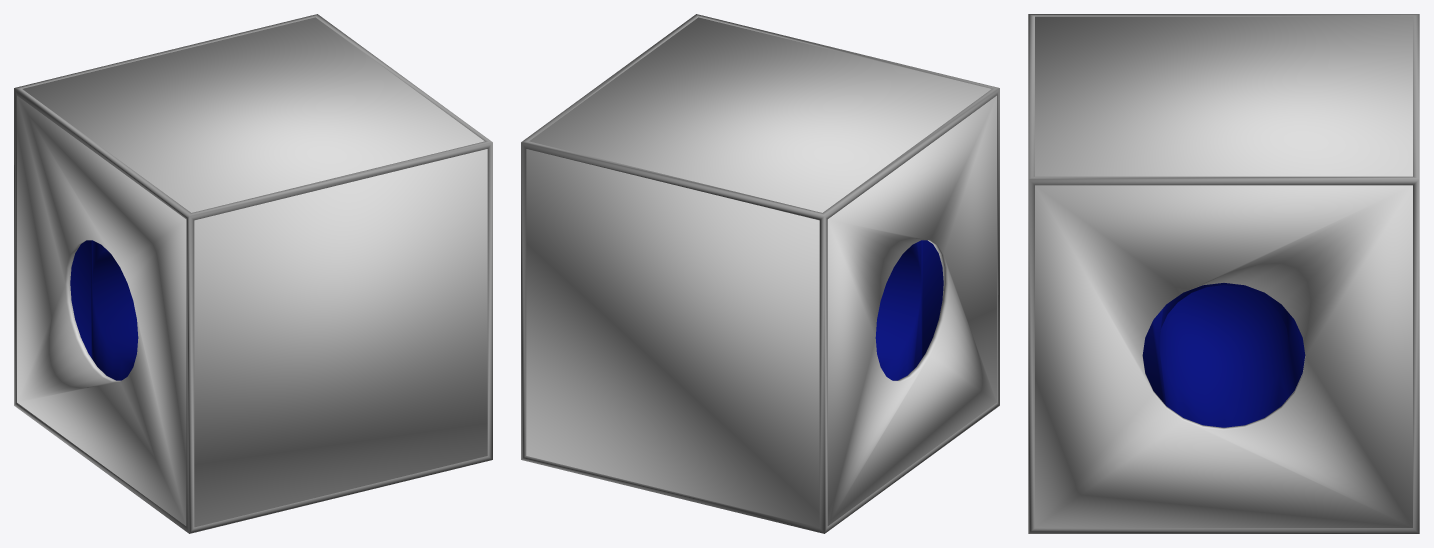
The model's file is pump_blue.dae.
3 views of the same model, side by side, from view 1: azimuth 30°, elevation 25°; view 2: azimuth 150°, elevation 25°; view 3: azimuth 270°, elevation 25° (orthographic). The views are drawn at different scales.
Visible parts, largest first — view 1: pump_enclosure; view 2: pump_enclosure; view 3: pump_enclosure.
Boxes of the visible parts, <box> form: pump_enclosure: <box>14,14,492,533</box>; pump_enclosure: <box>521,14,999,533</box>; pump_enclosure: <box>1028,14,1419,533</box>.
Size of the model in its own units: 0.12 by 0.12 by 0.12.
